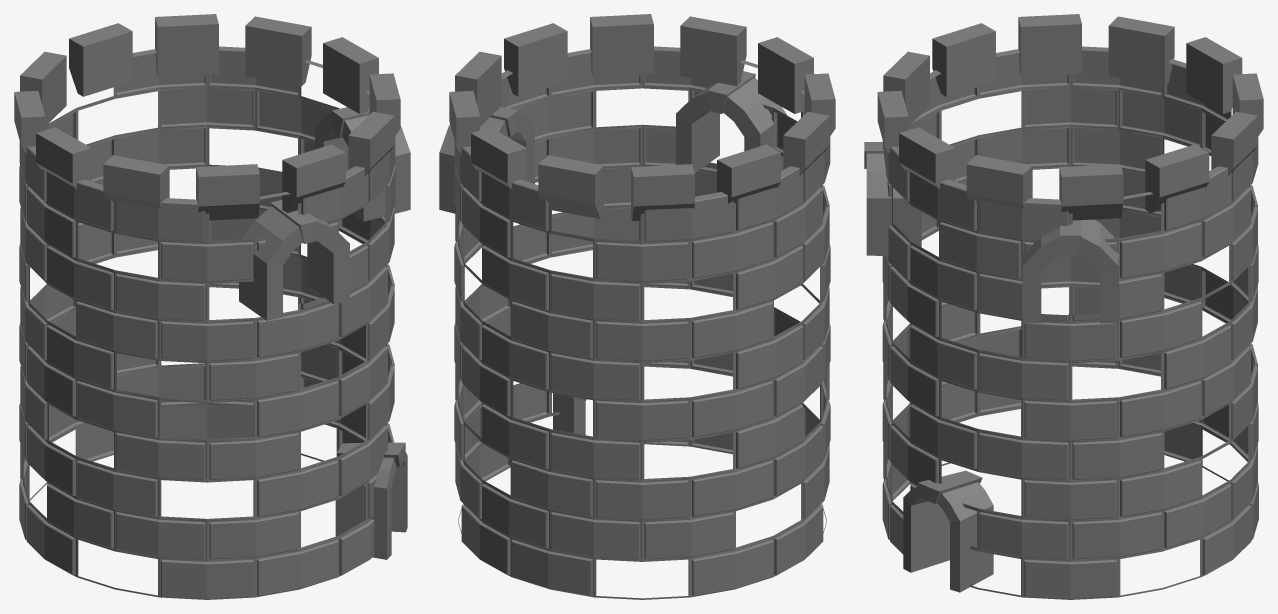
File: wall_test_rough1.glb
3 views of the same model, side by side, from view 1: azimuth 30°, elevation 25°; view 2: azimuth 150°, elevation 25°; view 3: azimuth 270°, elevation 25° (orthographic).
Parts seen in each view (by area): view 1: Turret.FrontRight.Primary; view 2: Turret.FrontRight.Primary; view 3: Turret.FrontRight.Primary.
Boxes of the visible parts, x1=… form: Turret.FrontRight.Primary: x1=14, y1=14, x2=410, y2=599; Turret.FrontRight.Primary: x1=439, y1=14, x2=835, y2=599; Turret.FrontRight.Primary: x1=864, y1=14, x2=1263, y2=599.
Size of the model in its own units: 2.18 by 2.55 by 2.16.
Materials: 1 (1 with a texture image).
